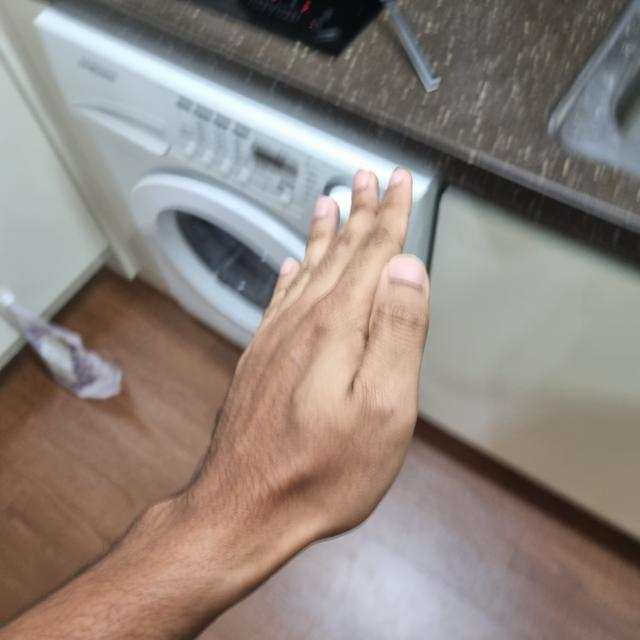Paper: (203, 173, 429, 537)
